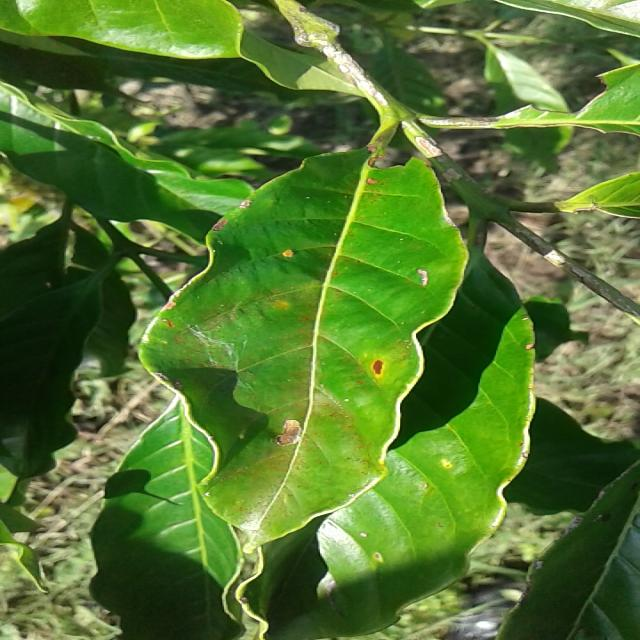Plaga-AranaRoja: (140, 150, 469, 544)
